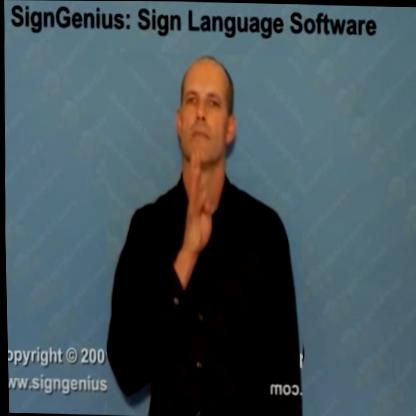Talk: (99, 51, 307, 416)
